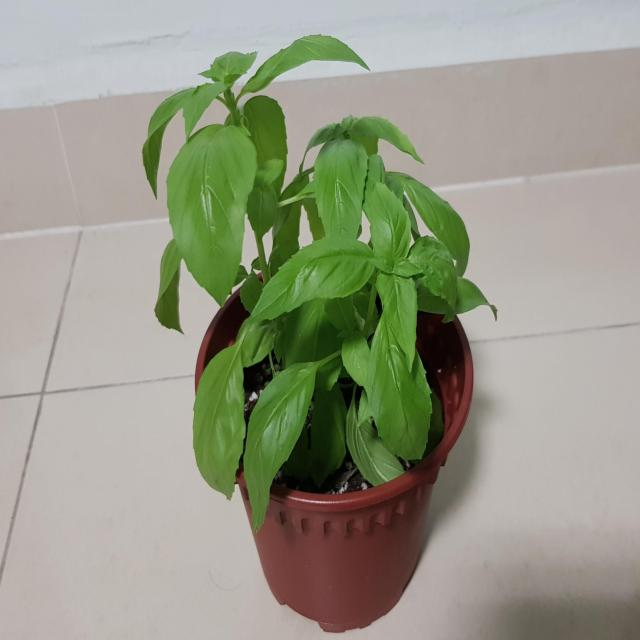Sweet Basil: (136, 29, 482, 475)
